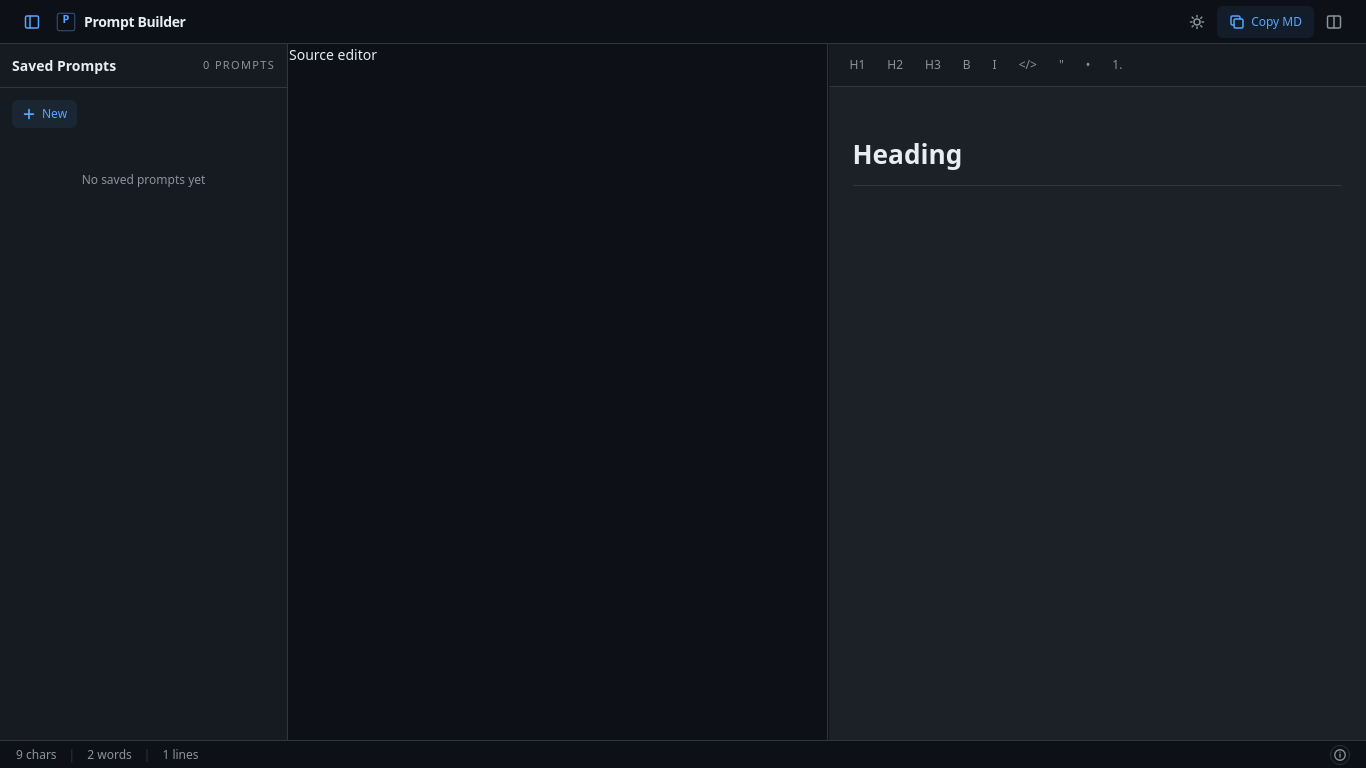
App rich editor layout › cycles through split, editor-only, and preview-only views
Expected: the text "Source editor" is shown, [289,45,377,64]
Expected: the element named "Markdown formatting" is shown, [828,44,1365,87]
// Click cycles split → editor
Click the button titled "Split view": (1334, 22) [1318,6,1350,38]
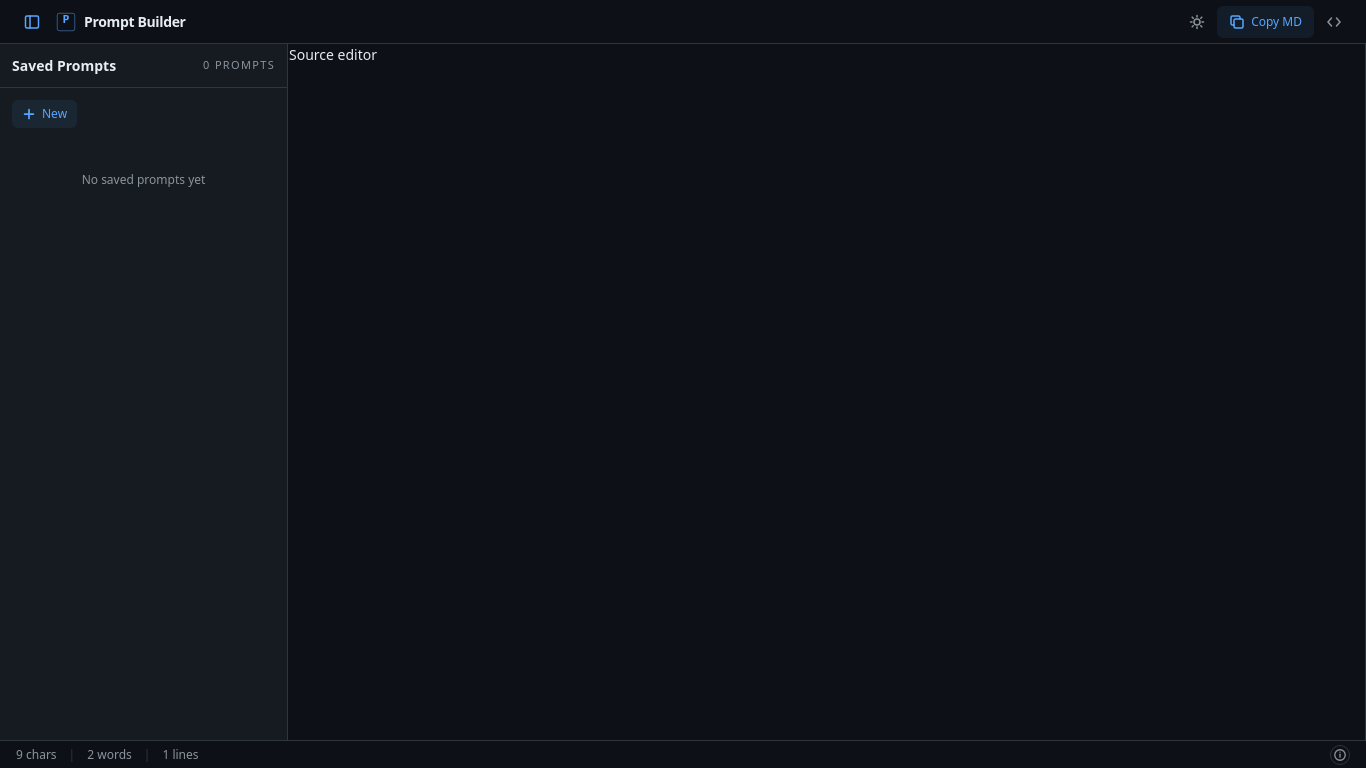
Expected: the text "Source editor" is shown, [289,45,377,64]
Now the text box is gone
// Click cycles editor → preview
Click the button titled "Code editor": (1334, 22) [1318,6,1350,38]
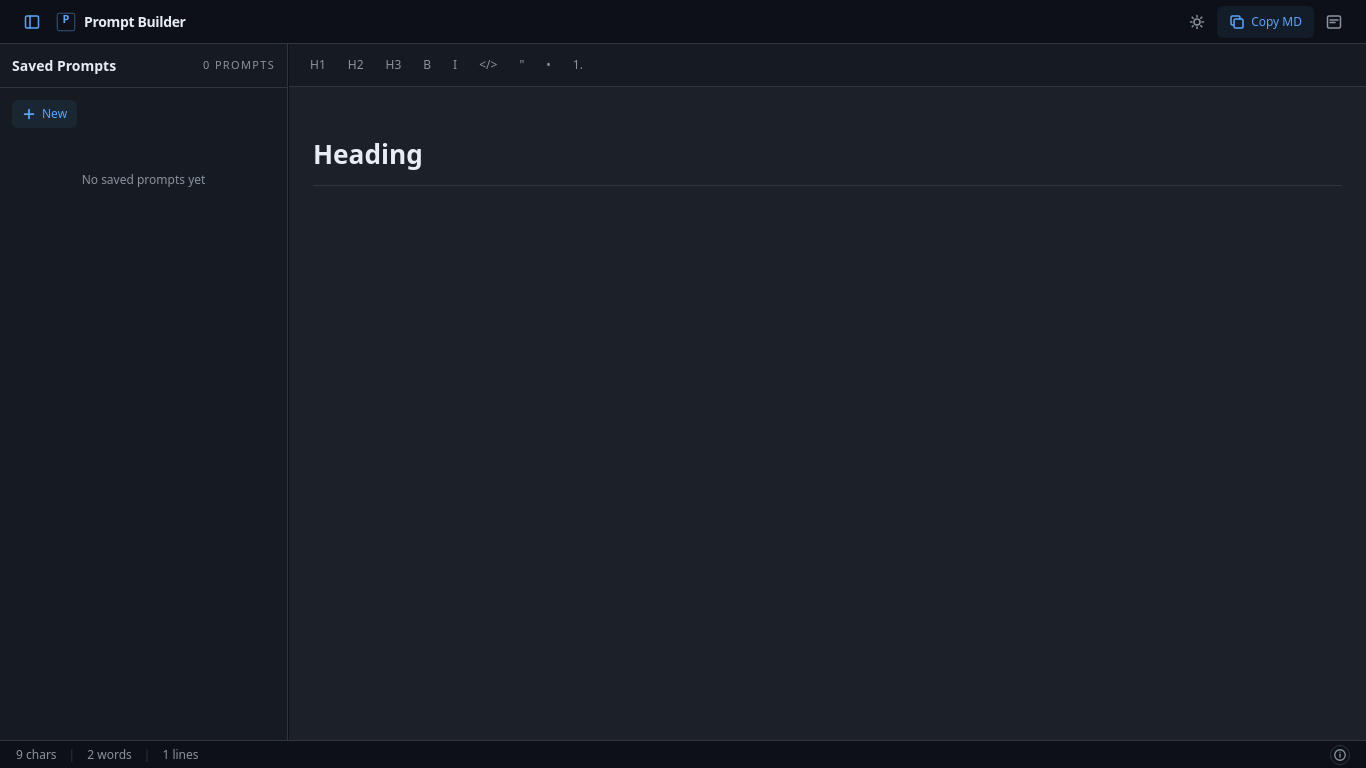
Now the text with test id "source-editor" is gone
Now the element named "Markdown formatting" is shown, box [289,44,1365,87]
Now the text box labelled "Heading" is shown
// Click cycles preview → split
Click the button titled "Markdown preview": (1334, 22) [1318,6,1350,38]
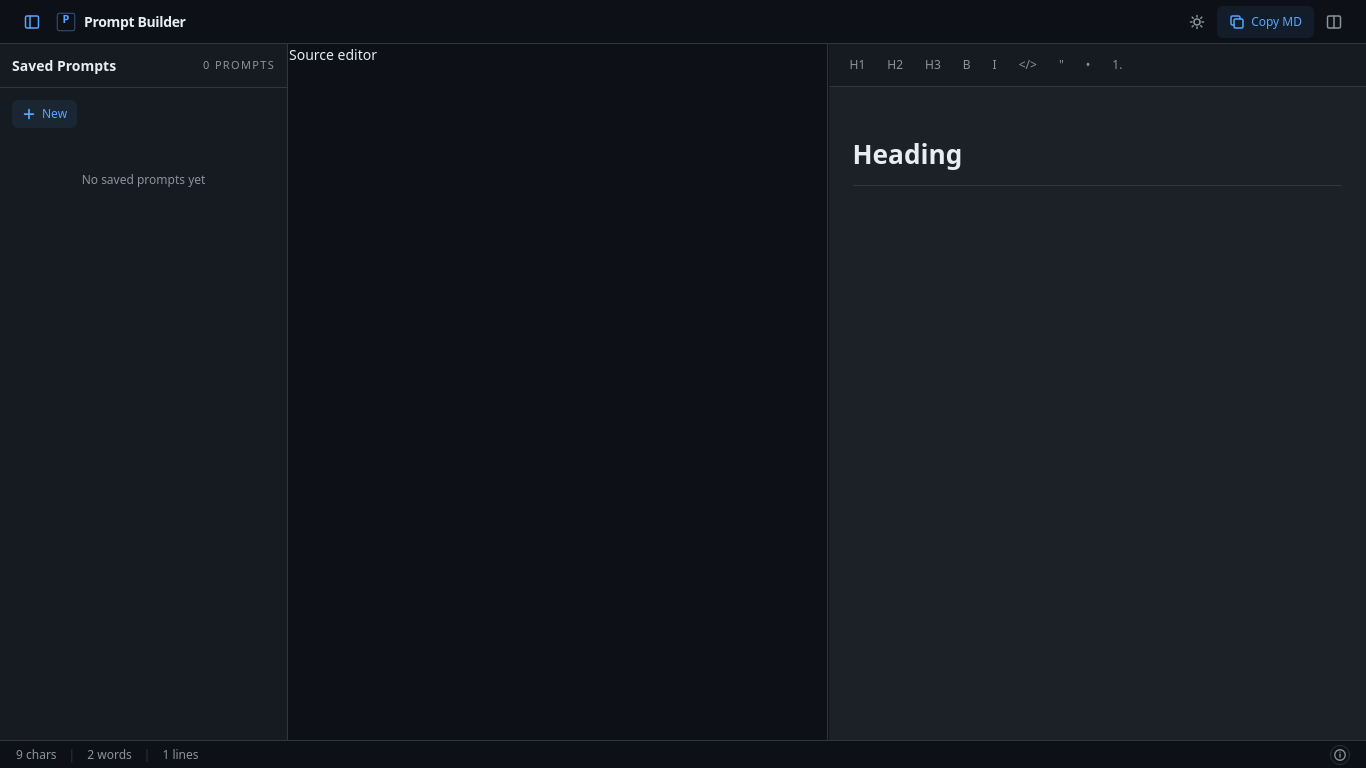
Now the element named "Markdown formatting" is shown, box [828,44,1365,87]
Now the text "Source editor" is shown, box [289,45,377,64]
